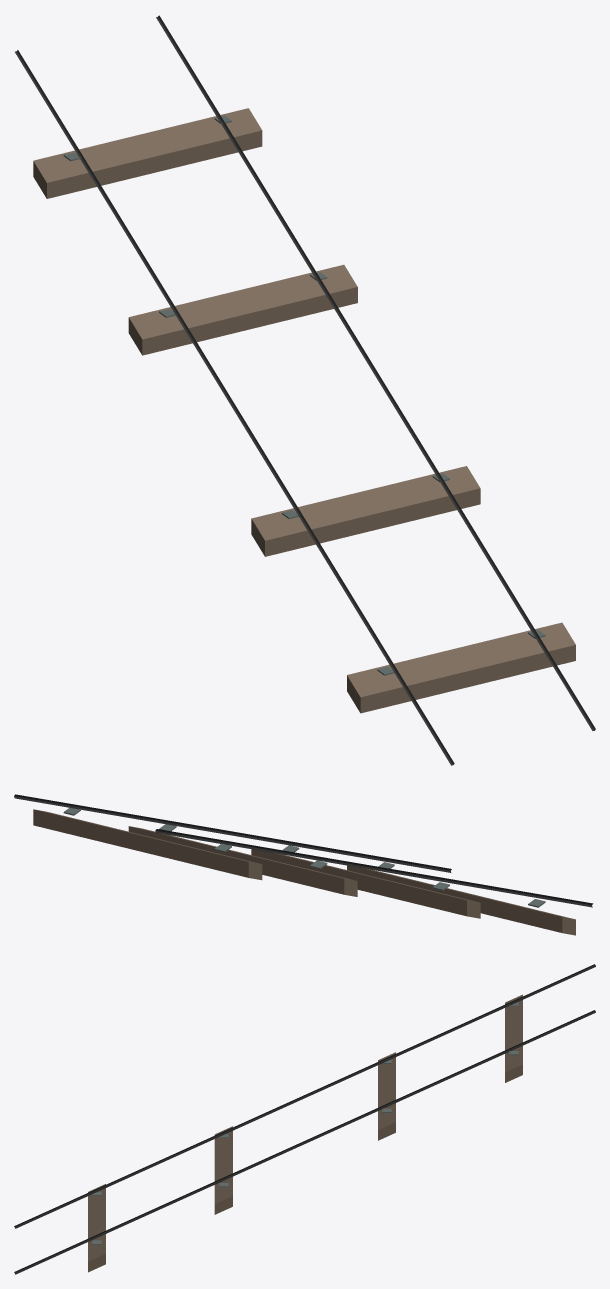
3 renders of one model, top to bottom at view 1: azimuth 30°, elevation 25°; view 2: azimuth 150°, elevation 25°; view 3: azimuth 270°, elevation 25°, orthographic. The views are drawn at different scales.
Parts seen in each view (by area): view 1: RL49 | archived geometry, RL49 | line, light and sprite surfaces; view 2: RL49 | archived geometry, RL49 | line, light and sprite surfaces, Fitted street and landscape details; view 3: RL49 | archived geometry, RL49 | line, light and sprite surfaces.
Part boxes in pixels (x1,y1,x2,y2): RL49 | archived geometry: (33,108,575,713); RL49 | line, light and sprite surfaces: (15,15,595,765); RL49 | archived geometry: (33,809,575,935); RL49 | line, light and sprite surfaces: (14,794,593,907); Fitted street and landscape details: (63,808,545,907); RL49 | archived geometry: (88,994,522,1272); RL49 | line, light and sprite surfaces: (14,964,595,1274).
Size of the model in its own units: 4.57 by 8.07 by 16.09.
